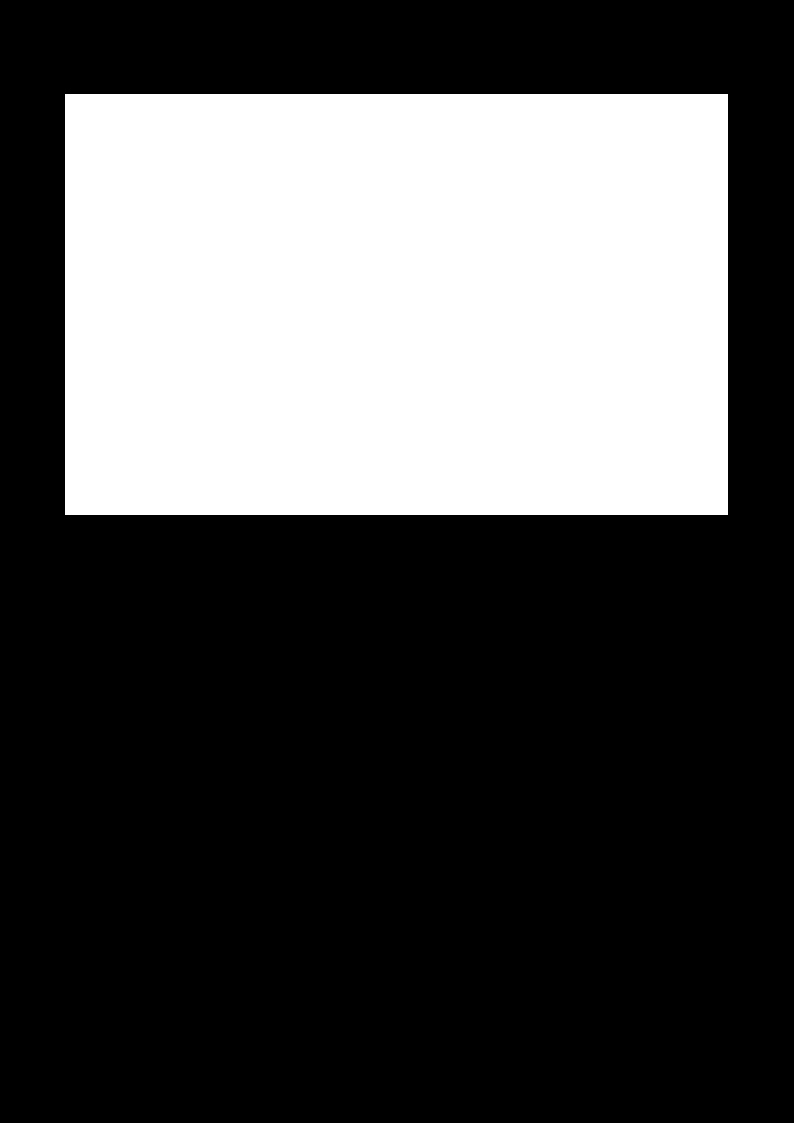table: (65, 94, 727, 514)
